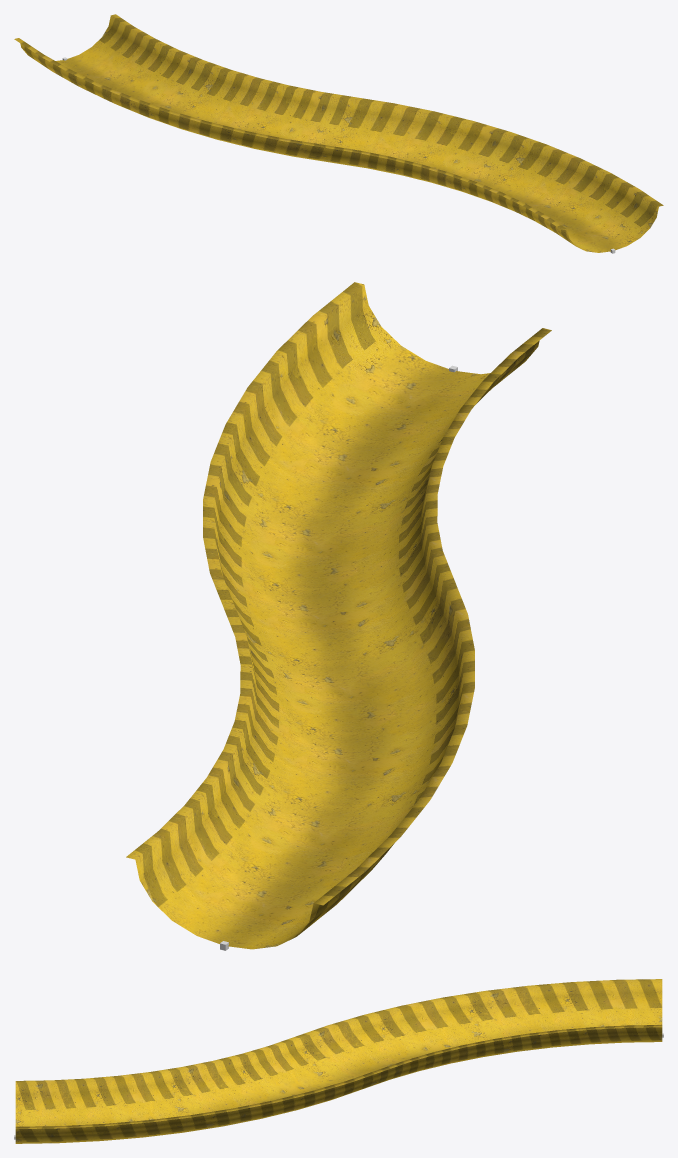
The model's file is roadShift.left3.fbx.
The picture shows the model from 3 angles, top to bottom: view 1: azimuth 30°, elevation 25°; view 2: azimuth 150°, elevation 25°; view 3: azimuth 270°, elevation 25°; orthographic projection. The views are drawn at different scales.
Parts seen in each view (by area): view 1: MESH roadShift.left3; view 2: MESH roadShift.left3; view 3: MESH roadShift.left3.
Boxes of the visible parts, left/top/right/bottom form: MESH roadShift.left3: left=14, top=14, right=663, bottom=252; MESH roadShift.left3: left=126, top=282, right=551, bottom=949; MESH roadShift.left3: left=15, top=979, right=662, bottom=1143.
Size of what is drawn, in the model's own units: 5274 by 553 by 9650.
